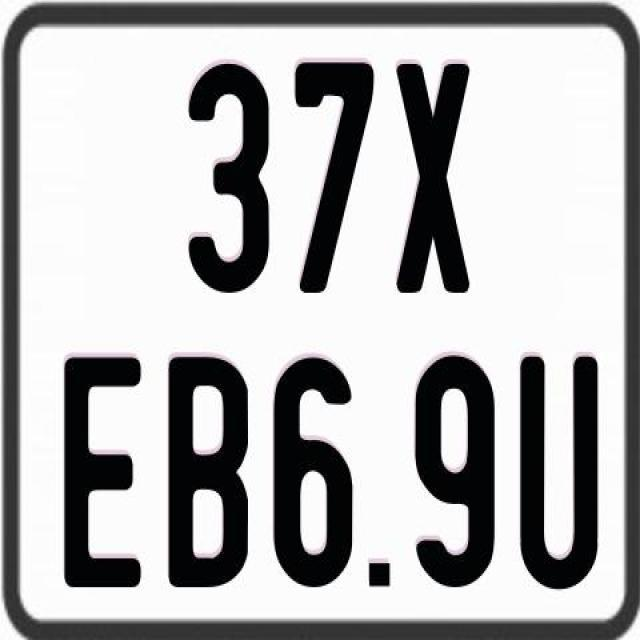3: (186, 64, 266, 301)
6: (270, 353, 350, 584)
7: (293, 61, 376, 294)
9: (413, 352, 499, 589)
B: (166, 357, 246, 596)
E: (62, 352, 144, 584)
U: (516, 354, 602, 586)
X: (393, 59, 467, 288)
